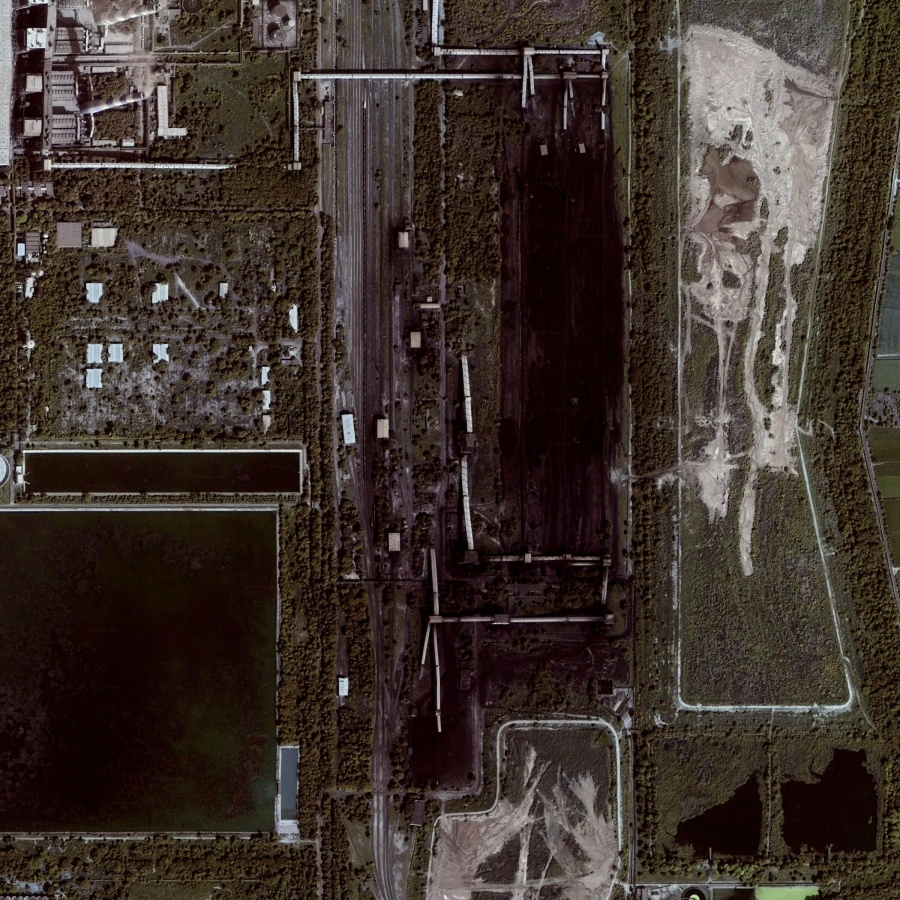PowerPlant: (285, 40, 649, 797)
